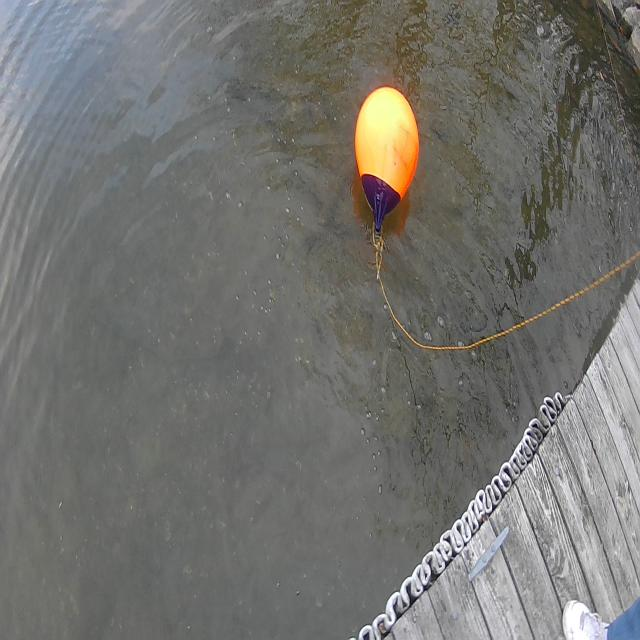Buoy: (350, 76, 424, 239)
